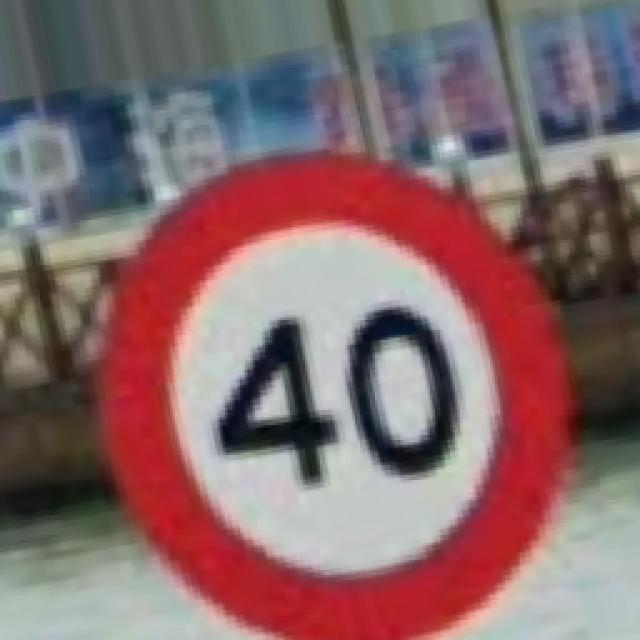Speed Limit -40-: (98, 152, 570, 638)
